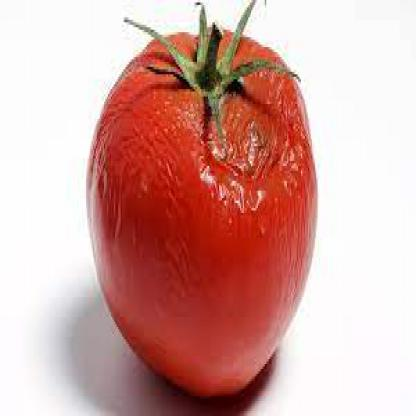Rotten: (82, 8, 324, 401)
